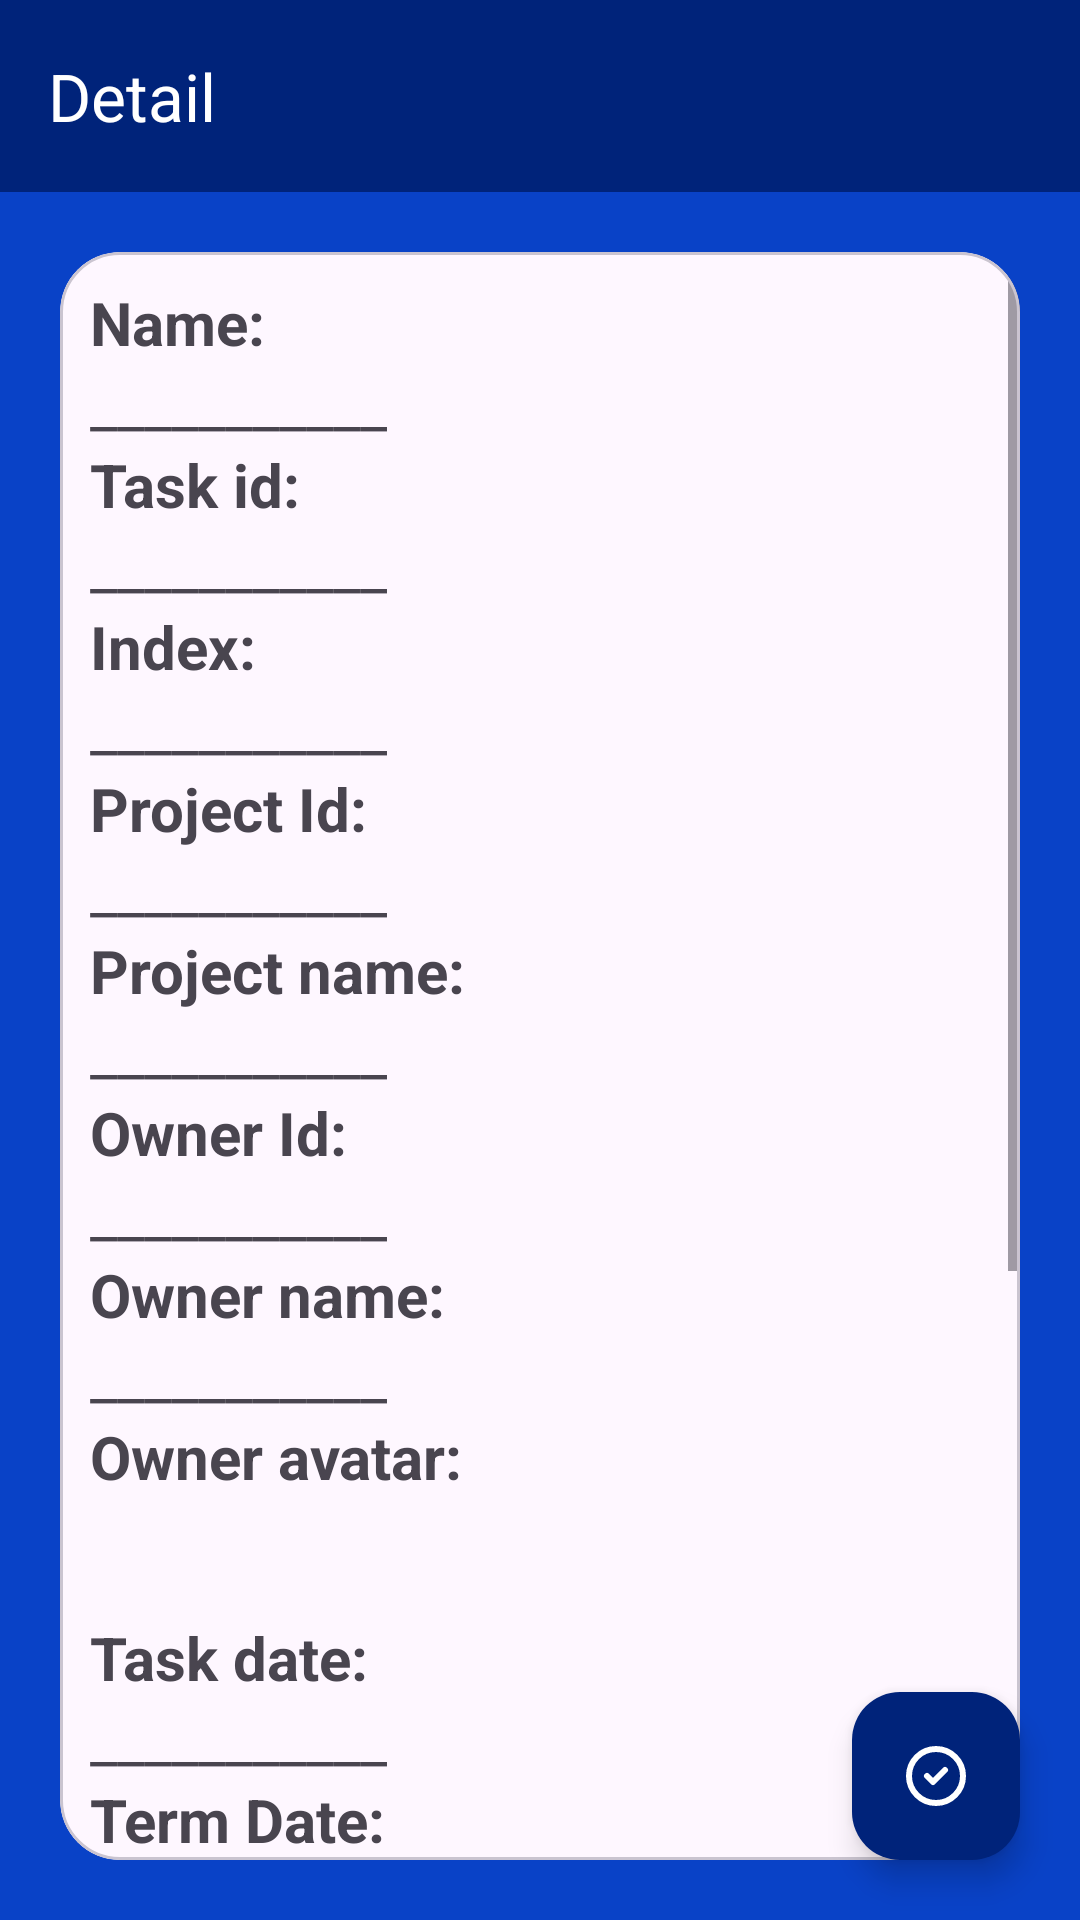

Named icons in this screenshot (1080×1920) and their centers, point (x, y):
circle check: point (936, 1776)
